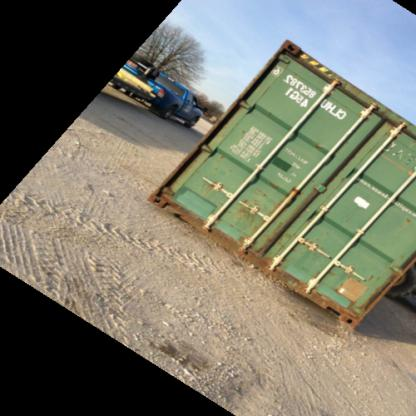Damage: (265, 222, 292, 264), (234, 186, 260, 224), (280, 38, 307, 64), (364, 270, 384, 295), (399, 208, 414, 232), (204, 175, 219, 197), (308, 136, 321, 155)
